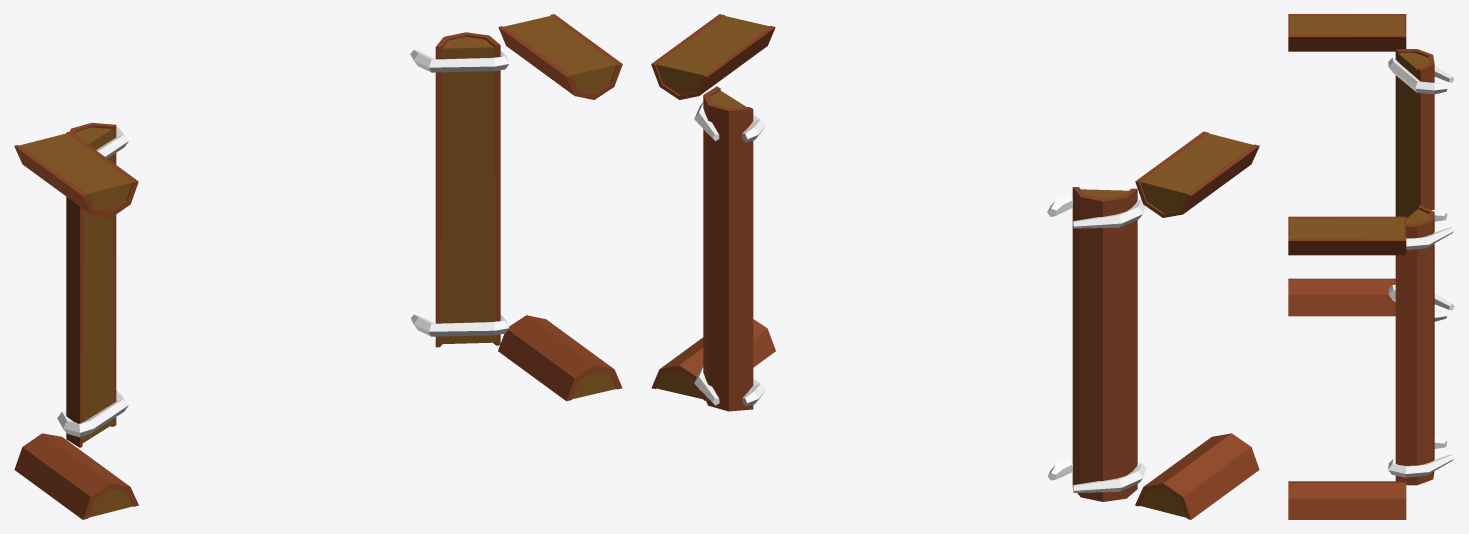
Rendered from BrokeBridge.fbx.
3 renders of one model, left to right at view 1: azimuth 30°, elevation 25°; view 2: azimuth 150°, elevation 25°; view 3: azimuth 270°, elevation 25°, orthographic. The views are drawn at different scales.
Visible parts, largest first — view 1: Torus.009; view 2: Torus.009; view 3: Torus.009.
Boxes of the visible parts, x1,y1,x2,y2 form: Torus.009: (14, 14, 622, 519); Torus.009: (651, 14, 1259, 519); Torus.009: (1288, 14, 1454, 519).
Bounding box in the file's own units: 952 × 547 × 295.
